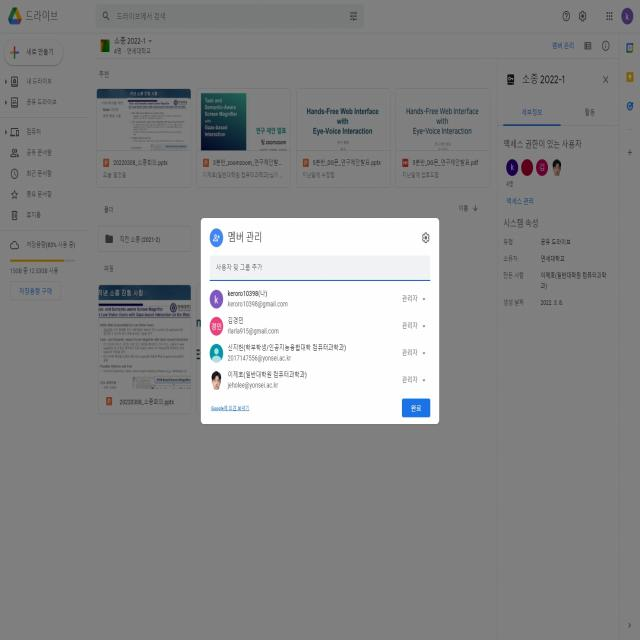search: (208, 250, 432, 280)
